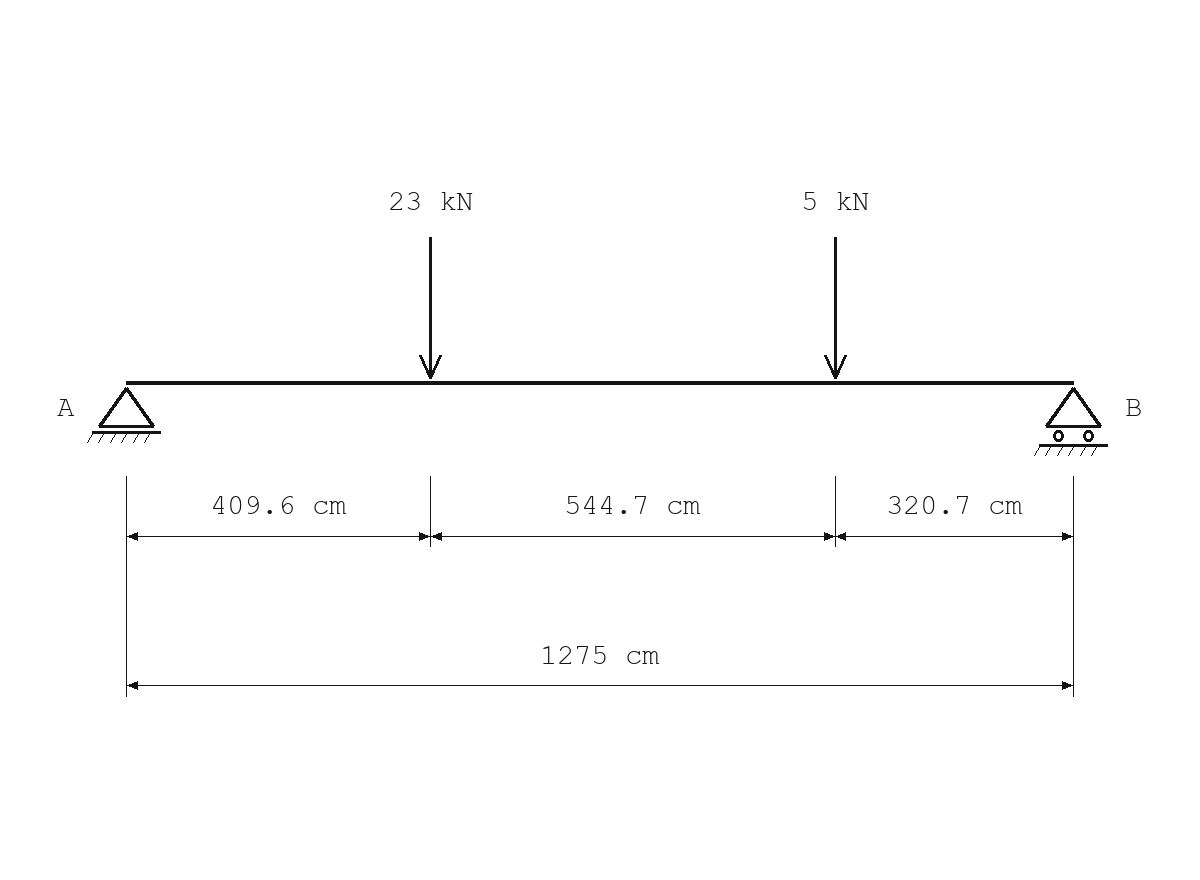pin_support: (87, 387, 161, 443)
point_load: (419, 237, 442, 379), (824, 237, 847, 379)
roller_support: (1034, 387, 1108, 456)
